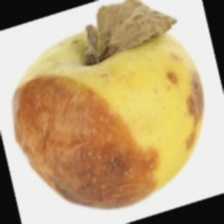apple: (0, 28, 198, 187)
